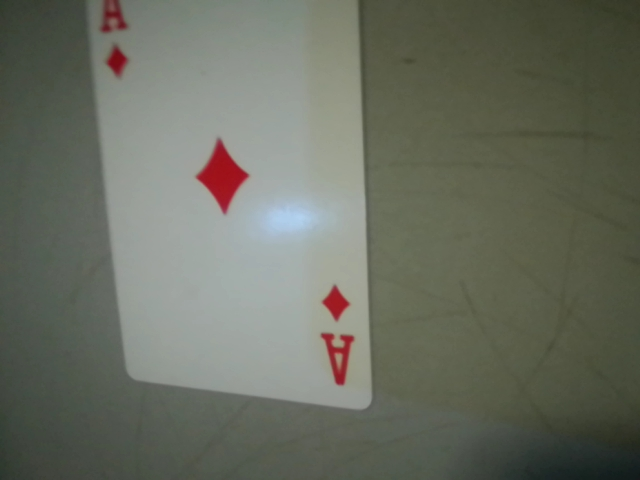fk a: (307, 269, 367, 399)
